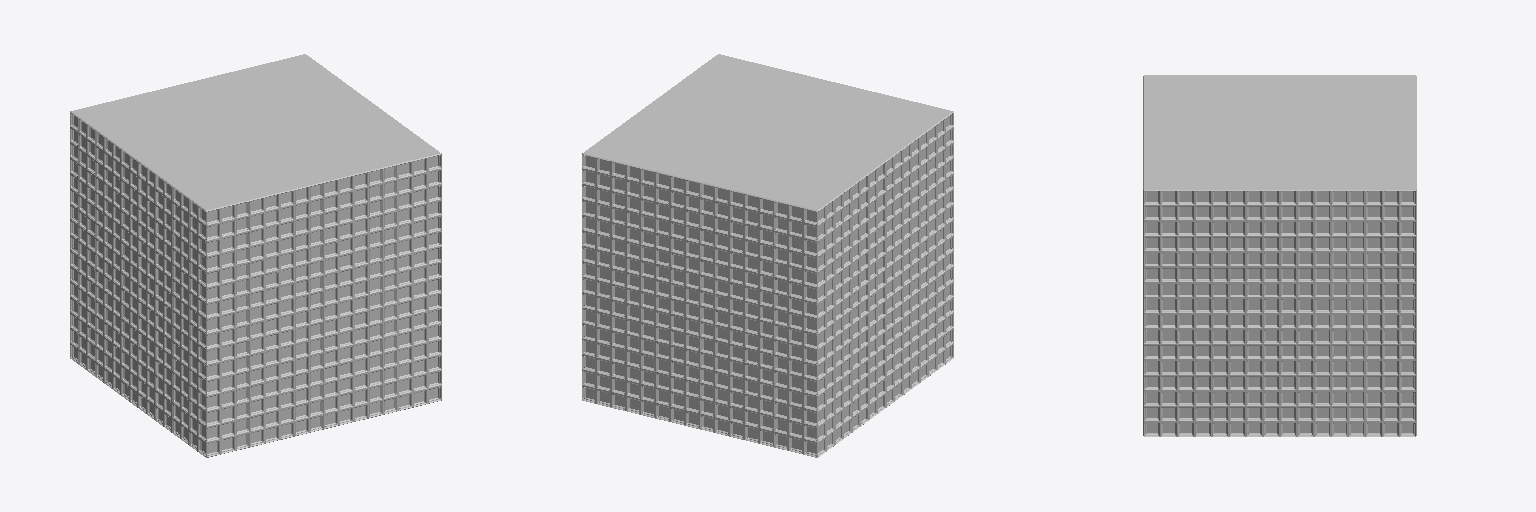
Rendered from building.obj.
3 renders of one model, left to right at view 1: azimuth 30°, elevation 25°; view 2: azimuth 150°, elevation 25°; view 3: azimuth 270°, elevation 25°, orthographic.
Parts seen in each view (by area): view 1: Cube; view 2: Cube; view 3: Cube.
Boxes of the visible parts, <box> form: Cube: <box>70,54,441,457</box>; Cube: <box>582,54,953,457</box>; Cube: <box>1143,75,1416,436</box>.
Size of the model in its own units: 2 by 2 by 2.